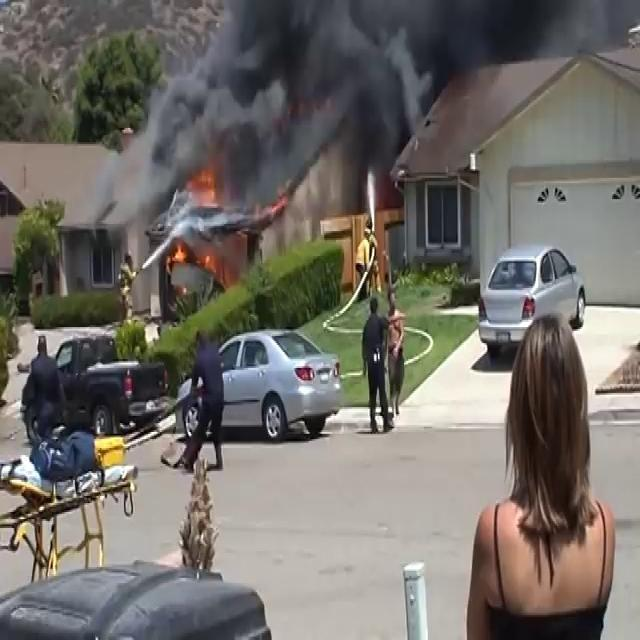Smoke: (109, 0, 431, 219)
